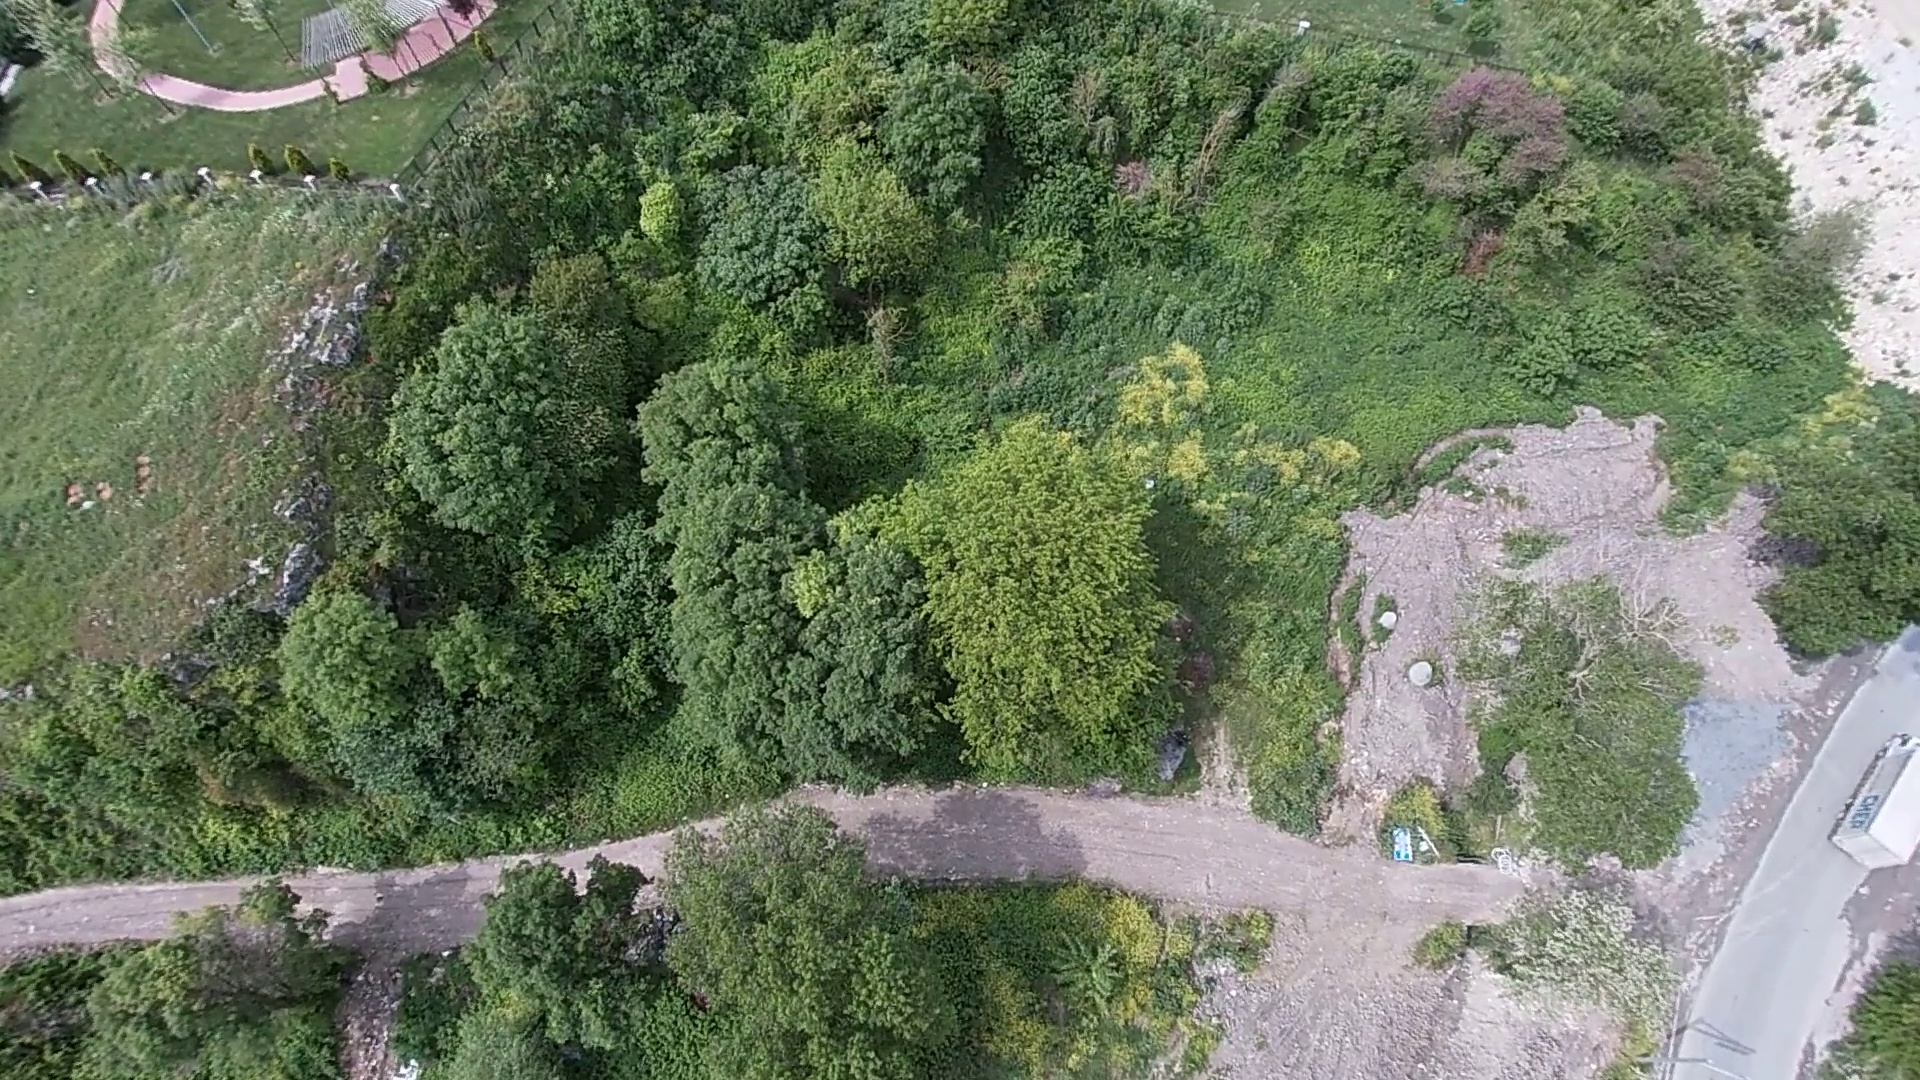arac: (1821, 727, 1920, 873)
